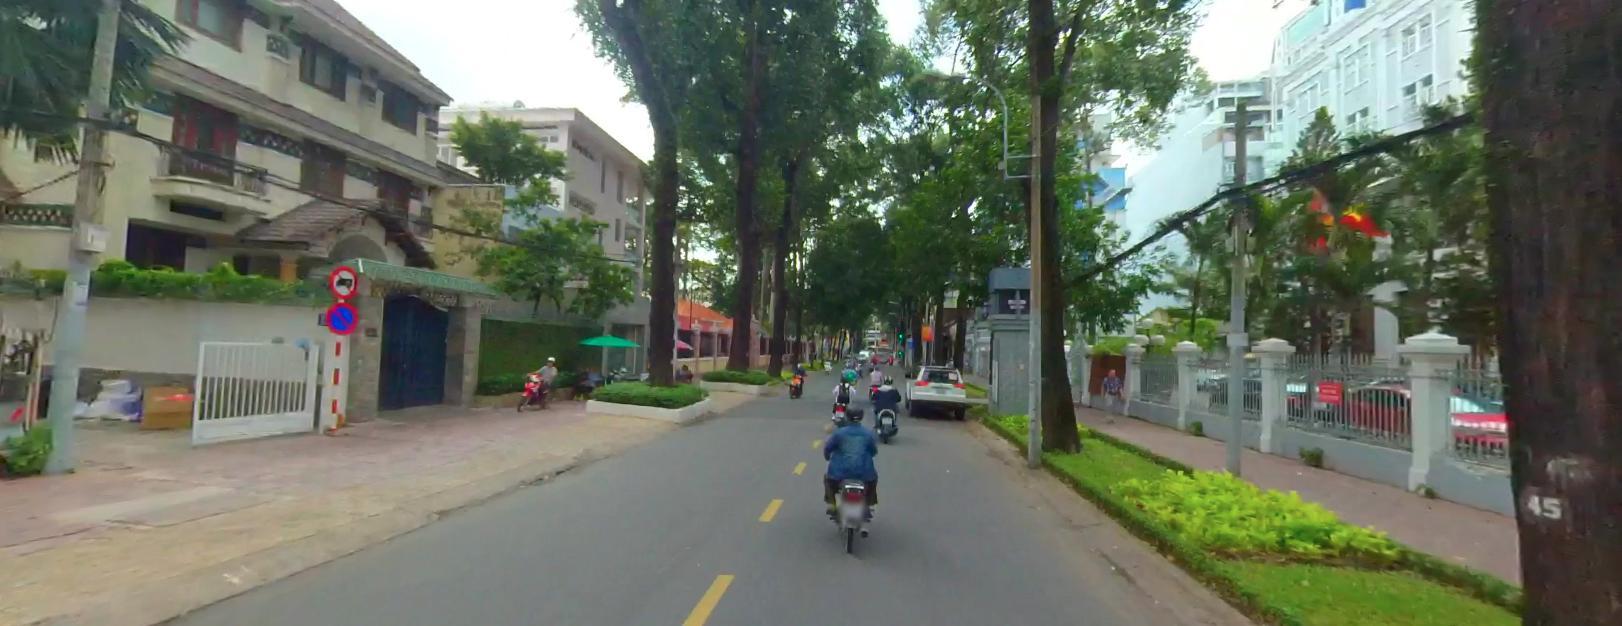Cam con lai: (327, 264, 358, 298)
Cam dung va do: (325, 300, 358, 332)
